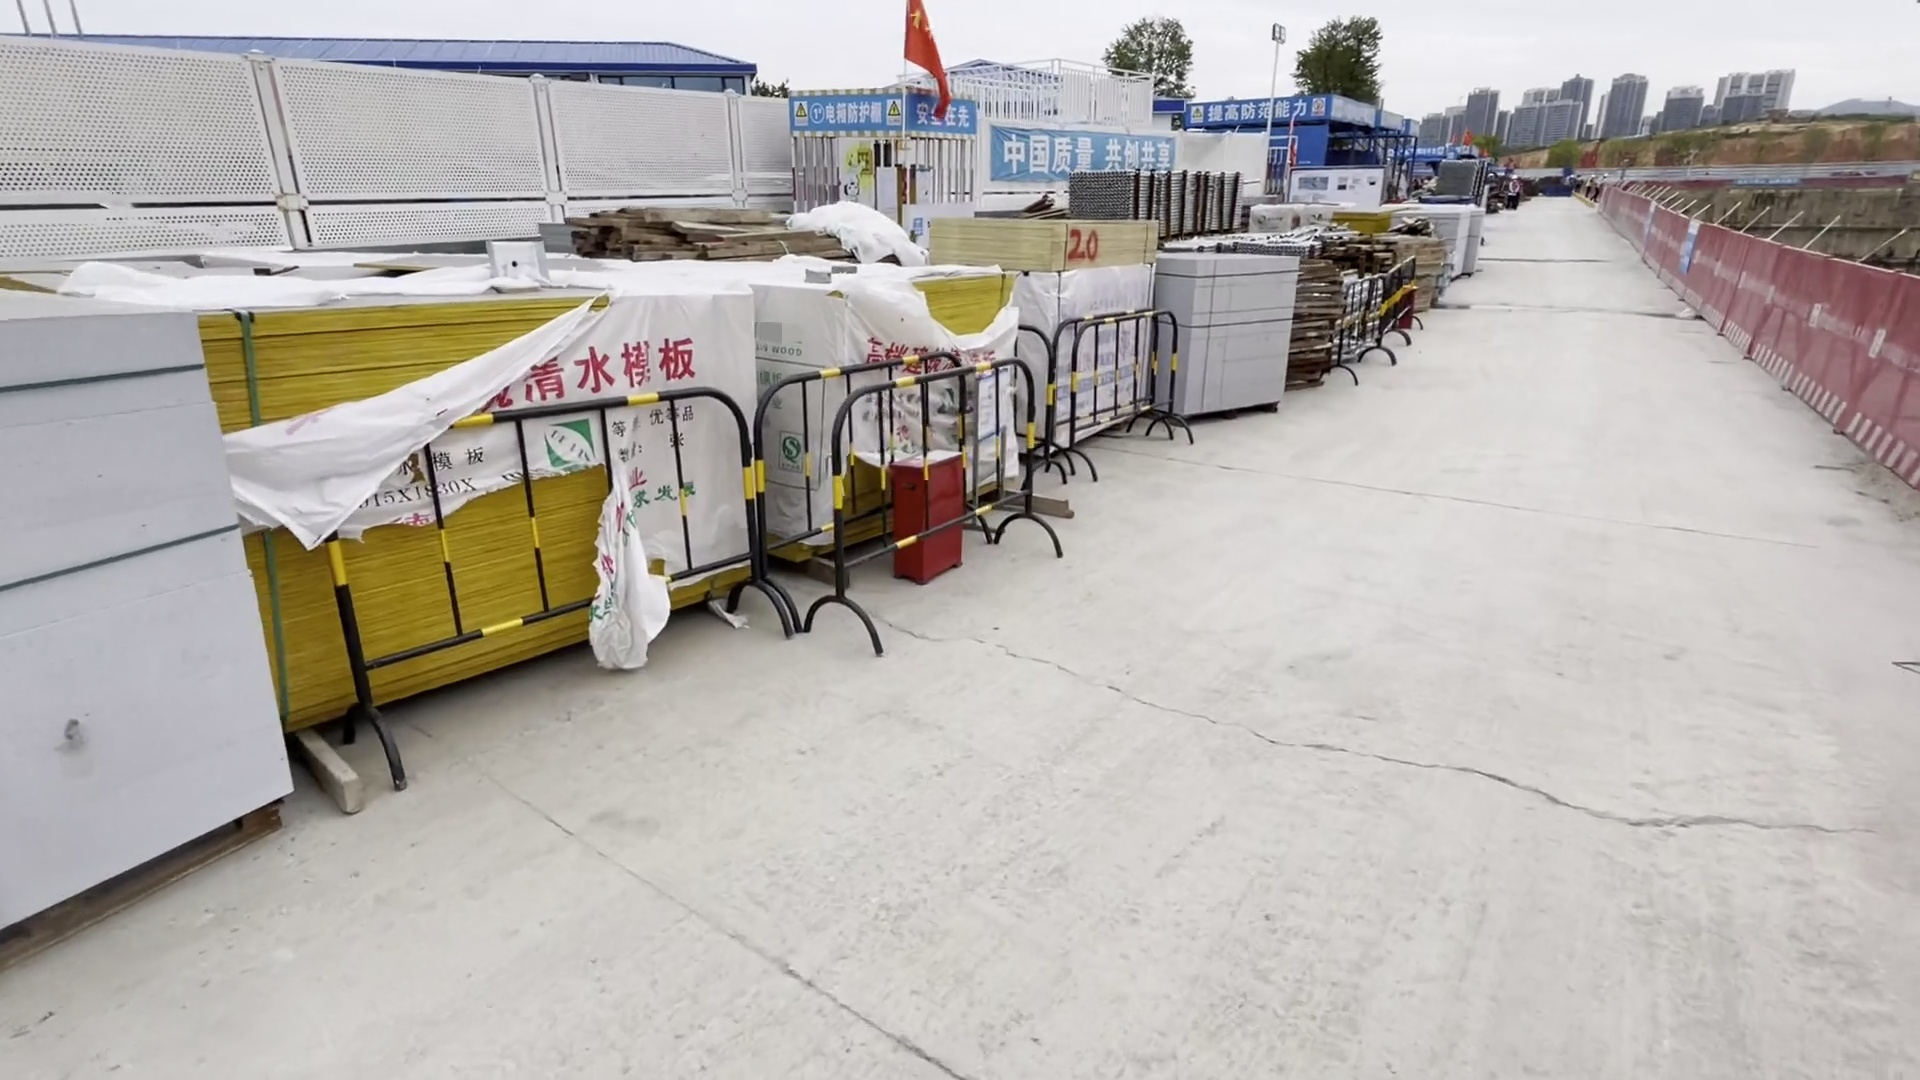board: (191, 291, 709, 670)
brick: (1, 278, 324, 989), (1130, 247, 1295, 414), (1389, 196, 1484, 284)
fence: (1586, 175, 1920, 504), (773, 380, 1060, 578), (1044, 328, 1191, 476)
scaffold: (1062, 169, 1249, 235)
slogan: (986, 117, 1164, 179), (1182, 98, 1327, 133), (916, 94, 982, 133)
